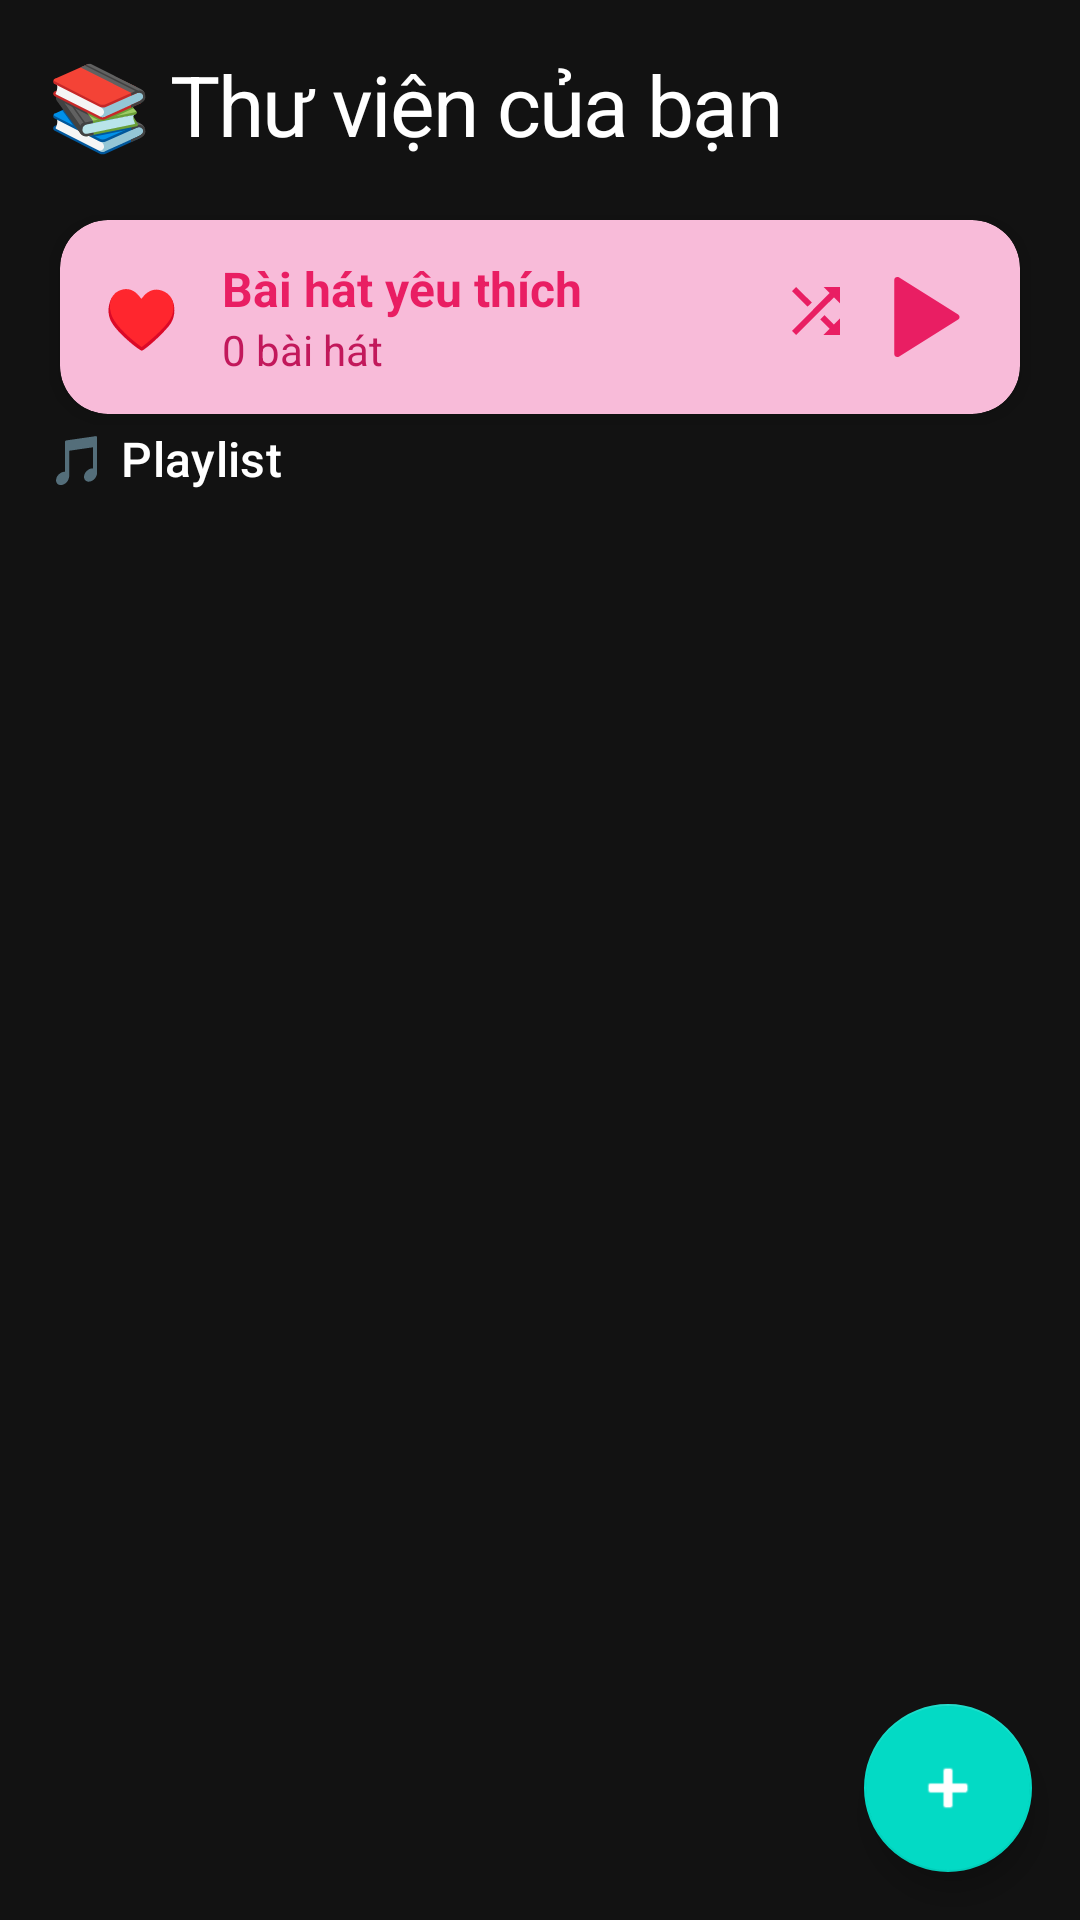

Screen size 1080px×1920px. Icon name, then its box in pixels as (x1, y1, x2, y2):
shuffle: (792, 287, 840, 335)
Thêm playlist: (864, 1704, 1032, 1872)
